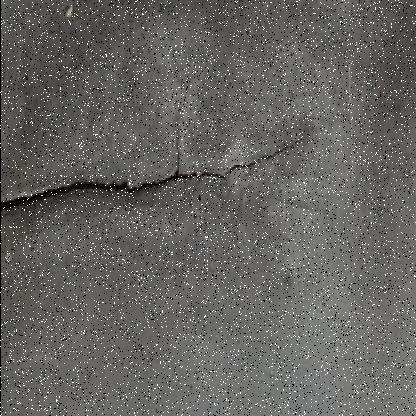Crack: (1, 2, 315, 255)
